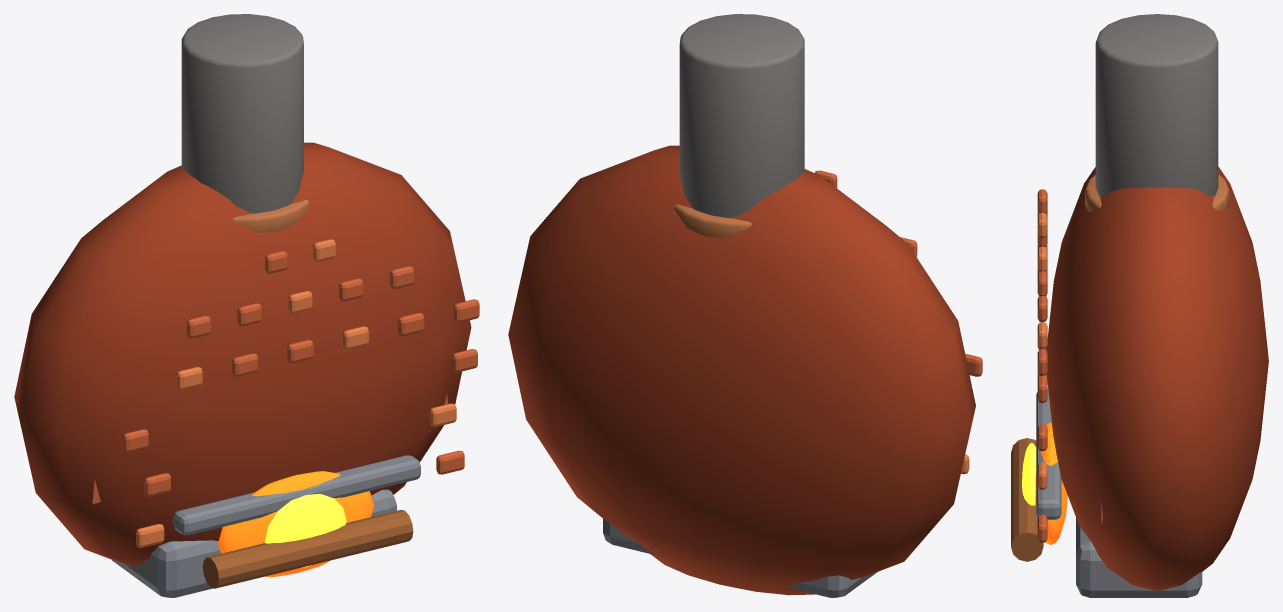
File: PR3D_Environment_Oven.fbx
3 views of the same model, side by side, from view 1: azimuth 30°, elevation 25°; view 2: azimuth 150°, elevation 25°; view 3: azimuth 270°, elevation 25° (orthographic). The views are drawn at different scales.
Parts seen in each view (by area): view 1: Visual_OvenDome, Visual_OvenChimney, Visual_Batched_Stone, Visual_Batched_Brick, Visual_Batched_Wood, Visual_OvenFire, Visual_Batched_BrickLight, Visual_OvenFireCore, Visual_OvenChimneyBand; view 2: Visual_OvenDome, Visual_OvenChimney, Visual_Batched_Stone, Visual_OvenChimneyBand, Visual_Batched_Brick; view 3: Visual_OvenDome, Visual_OvenChimney, Visual_Batched_Stone, Visual_Batched_Wood, Visual_Batched_Brick, Visual_Batched_BrickLight, Visual_OvenFire, Visual_OvenChimneyBand, Visual_OvenFireCore.
Boxes of the visible parts, <box> form: Visual_OvenDome: <box>14,142,471,566</box>; Visual_OvenChimney: <box>181,14,303,213</box>; Visual_Batched_Stone: <box>112,455,420,597</box>; Visual_Batched_Brick: <box>92,251,479,503</box>; Visual_Batched_Wood: <box>202,510,413,588</box>; Visual_OvenFire: <box>218,471,374,577</box>; Visual_Batched_BrickLight: <box>136,239,456,547</box>; Visual_OvenFireCore: <box>265,493,346,567</box>; Visual_OvenChimneyBand: <box>233,200,309,232</box>; Visual_OvenDome: <box>508,145,975,595</box>; Visual_OvenChimney: <box>679,14,804,218</box>; Visual_Batched_Stone: <box>603,518,877,597</box>; Visual_OvenChimneyBand: <box>674,204,751,237</box>; Visual_Batched_Brick: <box>815,170,982,376</box>; Visual_OvenDome: <box>1046,166,1268,591</box>; Visual_OvenChimney: <box>1095,14,1218,196</box>; Visual_Batched_Stone: <box>1036,388,1202,597</box>; Visual_Batched_Wood: <box>1011,438,1043,561</box>; Visual_Batched_Brick: <box>1037,189,1103,542</box>; Visual_Batched_BrickLight: <box>1037,212,1047,489</box>; Visual_OvenFire: <box>1035,422,1067,544</box>; Visual_OvenChimneyBand: <box>1085,174,1229,211</box>; Visual_OvenFireCore: <box>1022,443,1036,505</box>.
Bounding box in the file's own units: 2.86 × 3.26 × 1.43.
